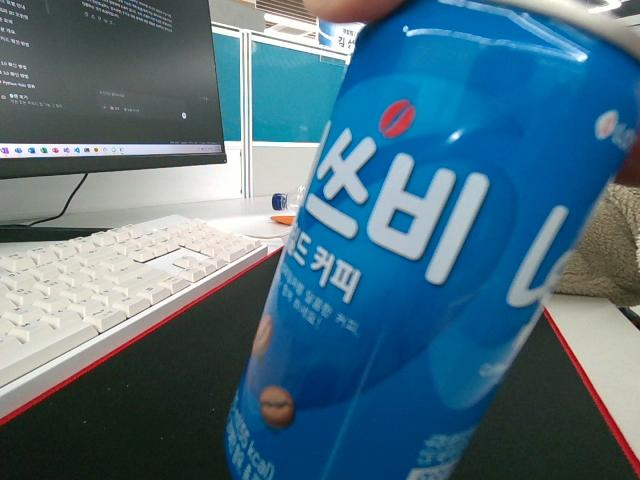letsbe: (222, 0, 639, 479)
